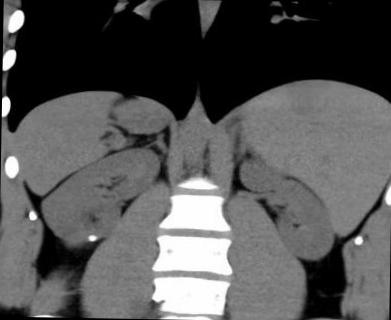Tas_Var: (85, 232, 98, 242)
